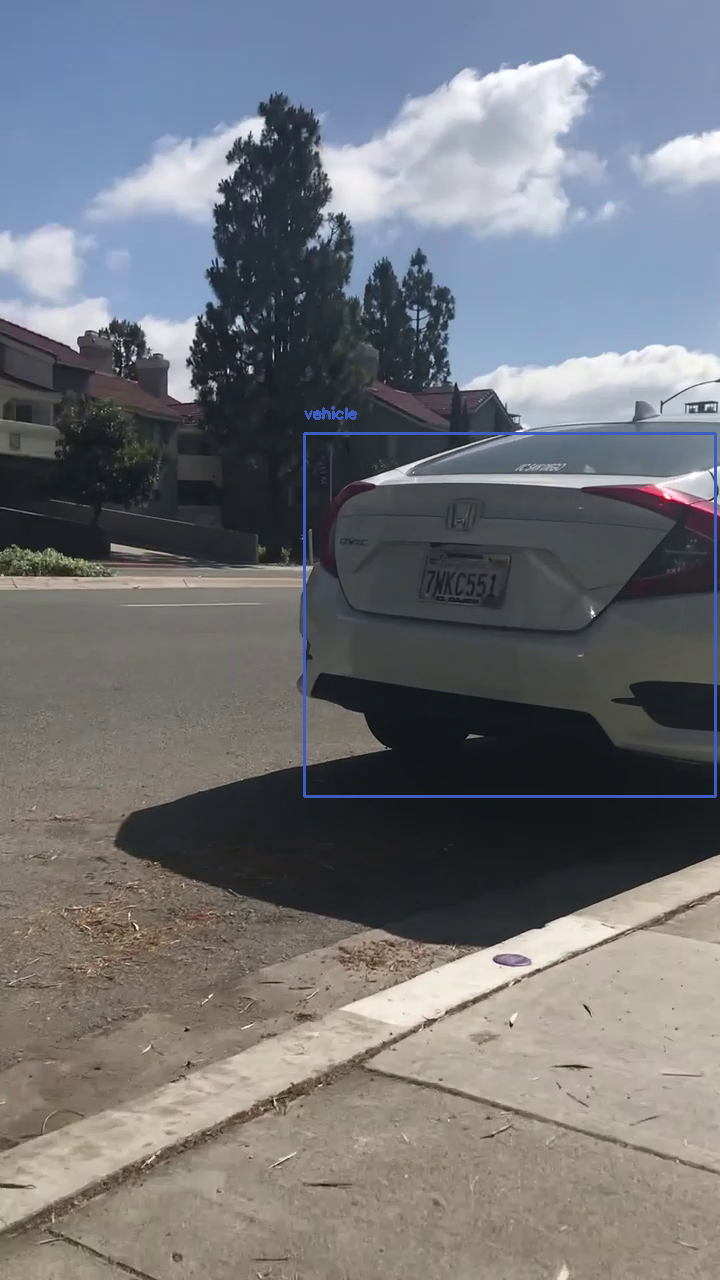vehicle: (304, 433, 715, 796)
